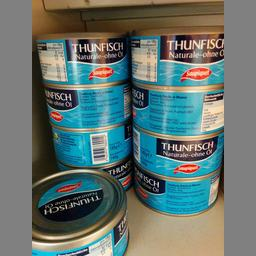fish: (31, 168, 130, 255), (130, 25, 223, 86), (35, 28, 128, 86), (130, 159, 222, 216), (127, 124, 222, 178), (129, 83, 222, 136), (38, 82, 132, 129), (46, 124, 129, 166)
